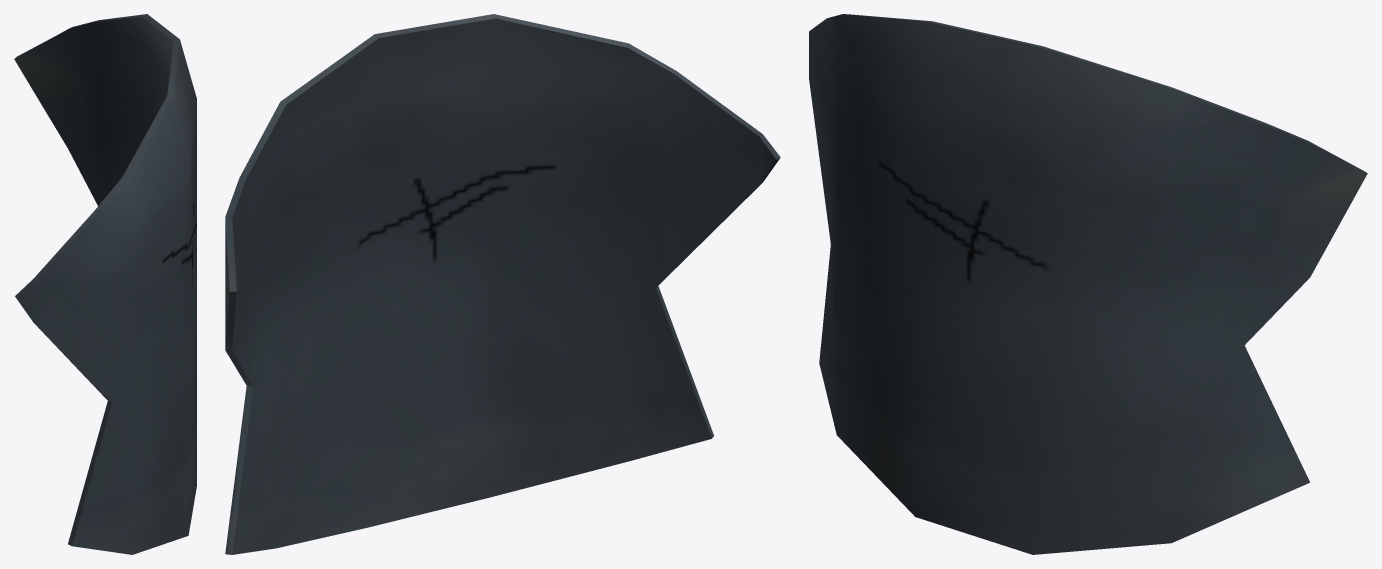
The model's file is jug_gib_3.fbx.
The picture shows the model from 3 angles, left to right: view 1: azimuth 30°, elevation 25°; view 2: azimuth 150°, elevation 25°; view 3: azimuth 270°, elevation 25°; orthographic projection. The views are drawn at different scales.
Visible parts, largest first — view 1: jug_gib_3; view 2: jug_gib_3; view 3: jug_gib_3.
Part boxes in pixels (x1,y1,x2,y2): jug_gib_3: (14, 14, 196, 554); jug_gib_3: (225, 14, 780, 554); jug_gib_3: (809, 14, 1367, 554).
Bounding box in the file's own units: 106 × 152 × 154.
